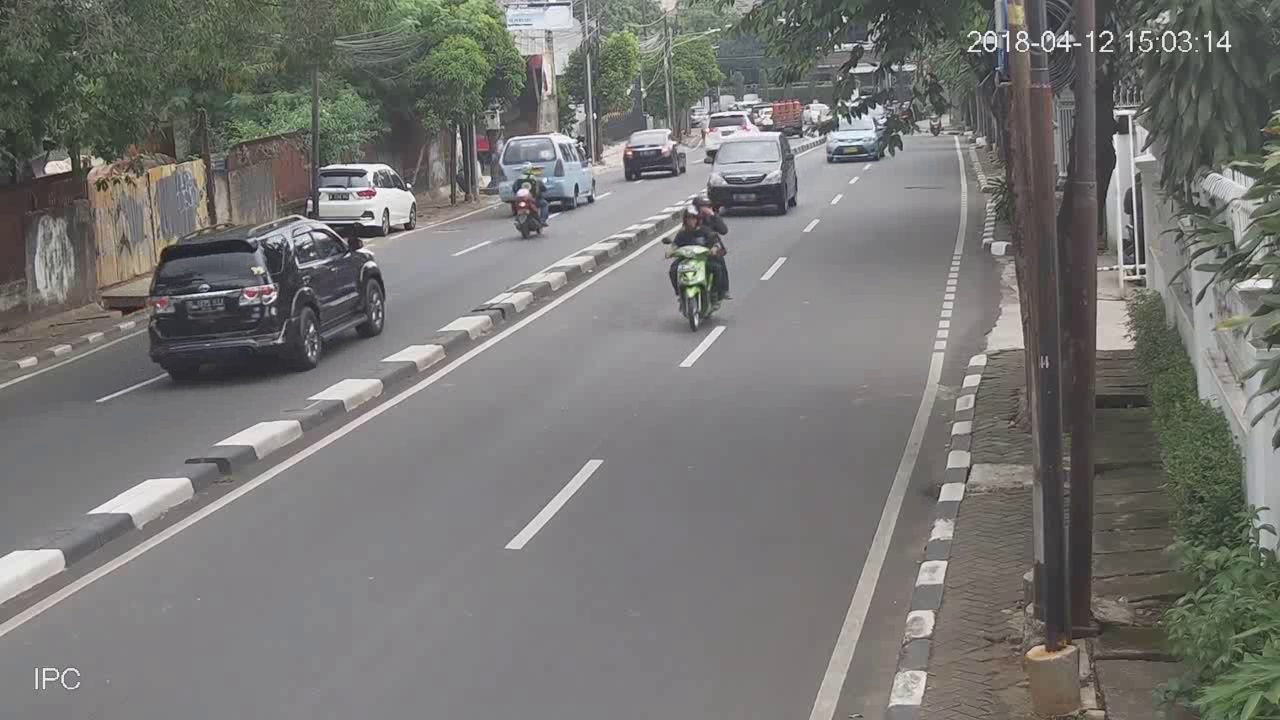car: (147, 215, 388, 385), (499, 130, 601, 210), (308, 161, 416, 236), (708, 129, 799, 215), (620, 125, 687, 180), (826, 110, 882, 161)
motorcycle: (664, 194, 733, 332), (511, 157, 555, 240)
